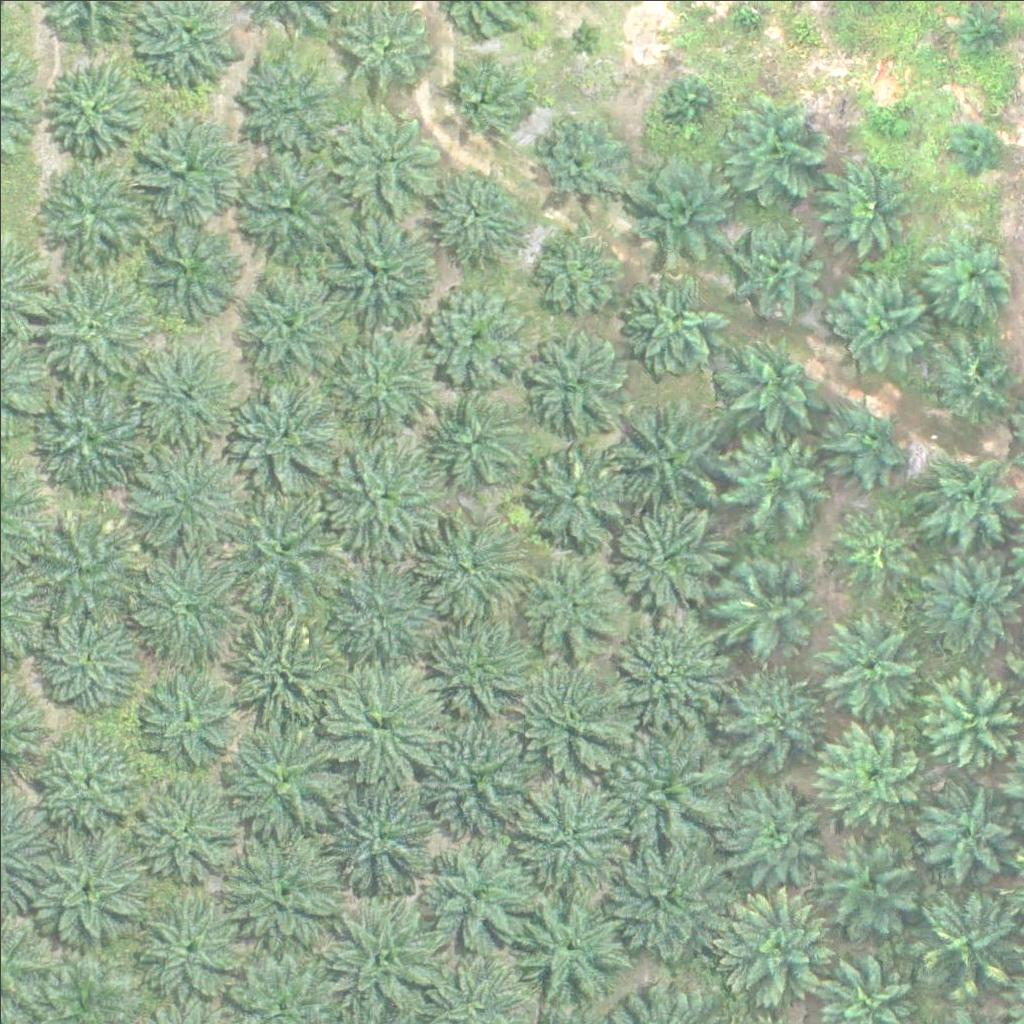Kelapa_Sawit: (711, 890, 836, 1016), (715, 773, 840, 899), (598, 832, 723, 958), (598, 721, 723, 847), (21, 814, 146, 940), (322, 890, 447, 1016), (314, 761, 439, 887), (221, 825, 346, 951), (601, 612, 726, 738), (510, 647, 635, 773), (317, 208, 442, 334), (320, 315, 445, 441), (320, 437, 445, 563), (318, 657, 443, 783), (210, 616, 335, 742), (220, 493, 345, 619), (219, 364, 344, 490), (226, 144, 351, 270), (124, 426, 249, 552), (123, 536, 248, 662), (26, 373, 151, 499), (30, 262, 155, 388), (503, 770, 628, 895), (606, 496, 731, 621), (132, 889, 245, 1003), (119, 766, 232, 880), (329, 545, 442, 659), (518, 885, 631, 998), (418, 839, 531, 952), (609, 397, 722, 510), (618, 148, 731, 261), (233, 264, 346, 377), (27, 721, 140, 834), (32, 602, 145, 715), (25, 504, 138, 617), (231, 43, 344, 156), (813, 711, 925, 825), (225, 719, 337, 832), (127, 214, 239, 327), (38, 148, 150, 261), (330, 98, 442, 211), (724, 336, 824, 437), (829, 267, 929, 368), (918, 543, 1018, 644), (918, 449, 1018, 550), (623, 269, 723, 370), (526, 321, 626, 422), (528, 442, 628, 543), (523, 554, 623, 655), (415, 512, 515, 613), (422, 283, 522, 384), (426, 158, 526, 259), (137, 664, 237, 765), (340, 4, 440, 105), (437, 49, 537, 150), (724, 95, 824, 196), (911, 787, 1011, 887), (821, 833, 921, 933), (724, 661, 824, 761), (716, 553, 816, 653), (728, 427, 828, 527), (817, 611, 917, 711), (920, 666, 1020, 766), (434, 620, 534, 720), (127, 332, 227, 432), (45, 59, 145, 159), (133, 115, 233, 215), (821, 156, 921, 256), (425, 733, 524, 833), (821, 395, 909, 483), (828, 503, 916, 591), (734, 225, 822, 313), (431, 391, 519, 479), (924, 227, 1011, 316), (535, 116, 622, 205), (536, 224, 623, 312), (666, 77, 716, 128), (960, 4, 1010, 54), (947, 127, 997, 177), (869, 104, 907, 142), (564, 16, 602, 54)
